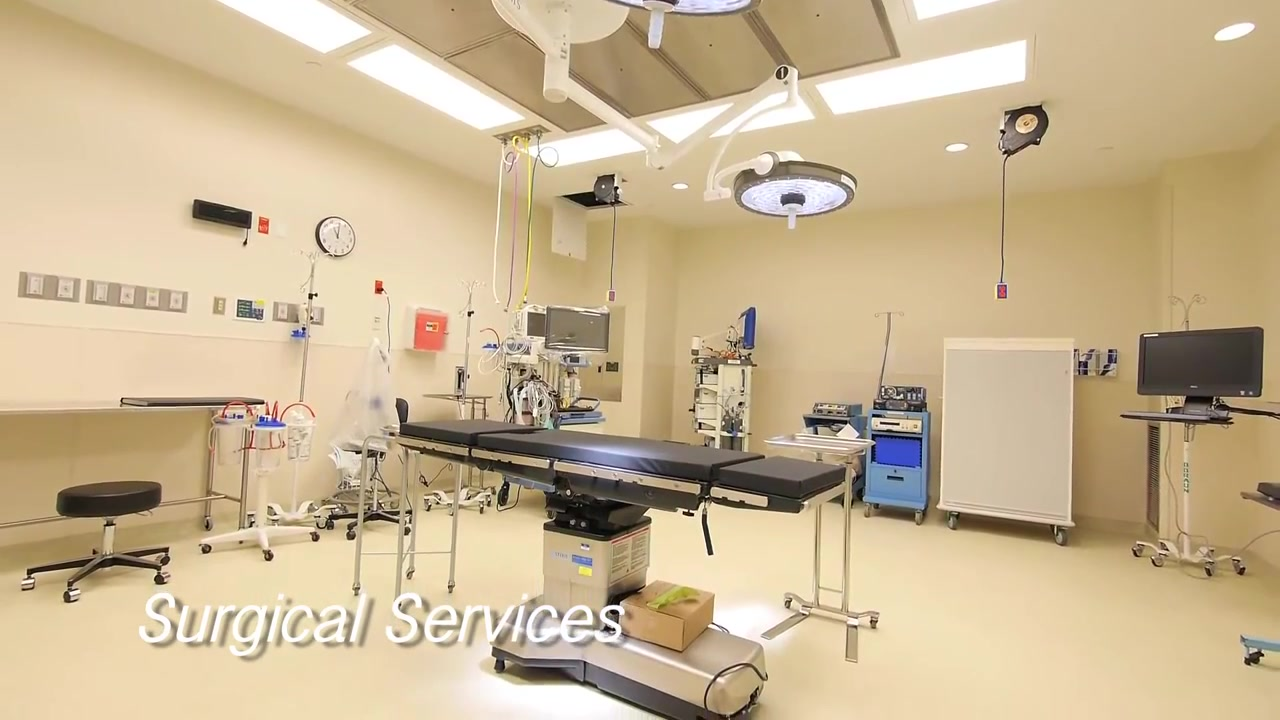bedside_monitor: (547, 305, 609, 351), (525, 310, 546, 337)
breathing_tube: (511, 385, 552, 427)
chair: (25, 476, 177, 598)
computer: (1137, 326, 1265, 397)
electrosurgical_unit: (812, 402, 862, 417)
iv_pole: (291, 249, 336, 402), (456, 278, 486, 420), (874, 310, 905, 400), (1167, 292, 1207, 331)
medical_waste_container: (401, 302, 448, 357)
operating_bed: (394, 394, 847, 720)
surgical_light: (724, 156, 858, 229), (600, 1, 758, 24)
utility_cart: (760, 431, 880, 664), (350, 420, 466, 597)
